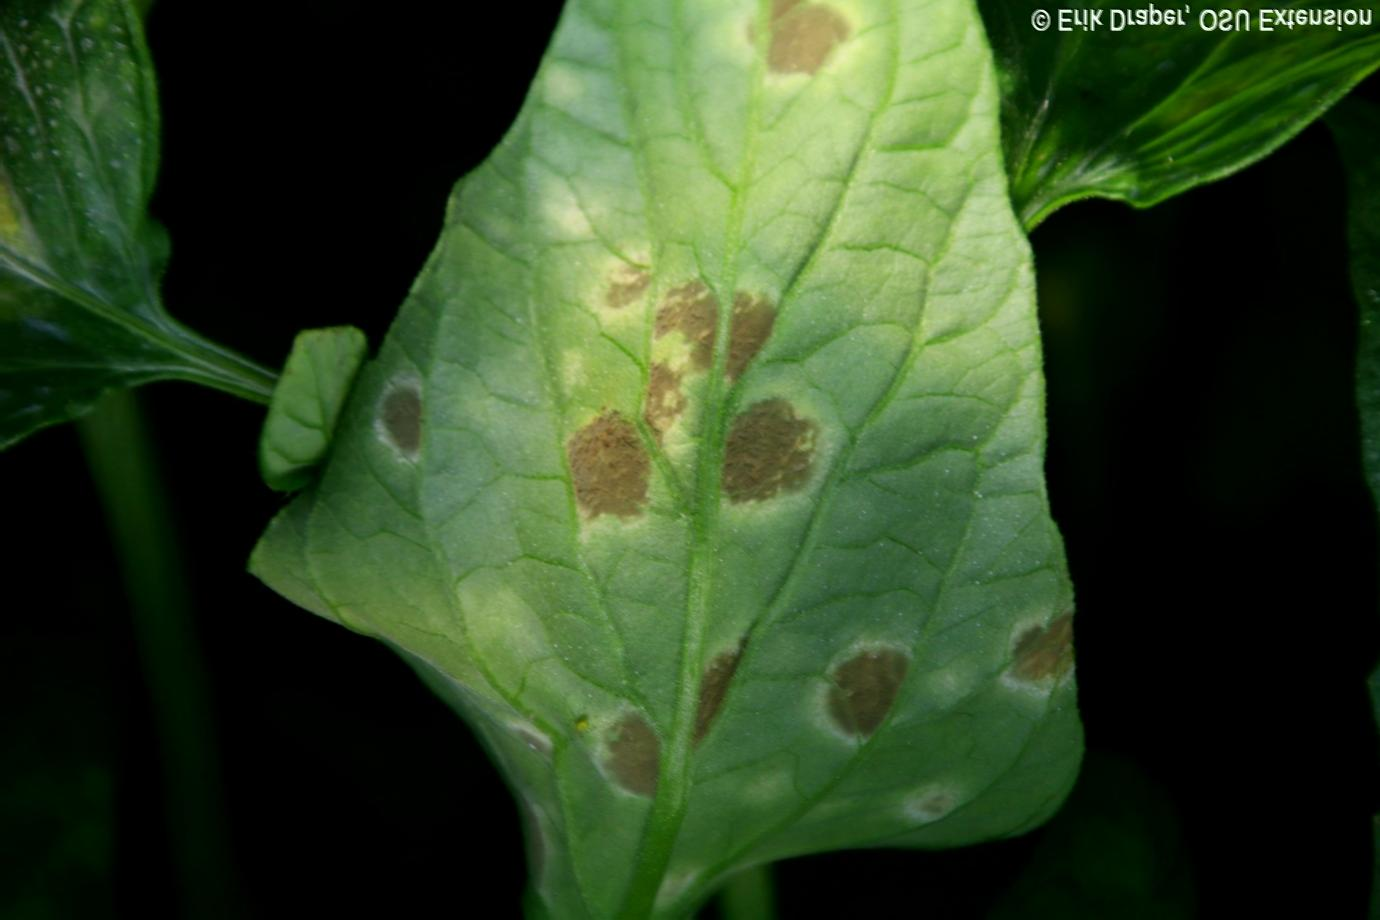Tomato mold leaf: (258, 10, 1090, 891)
